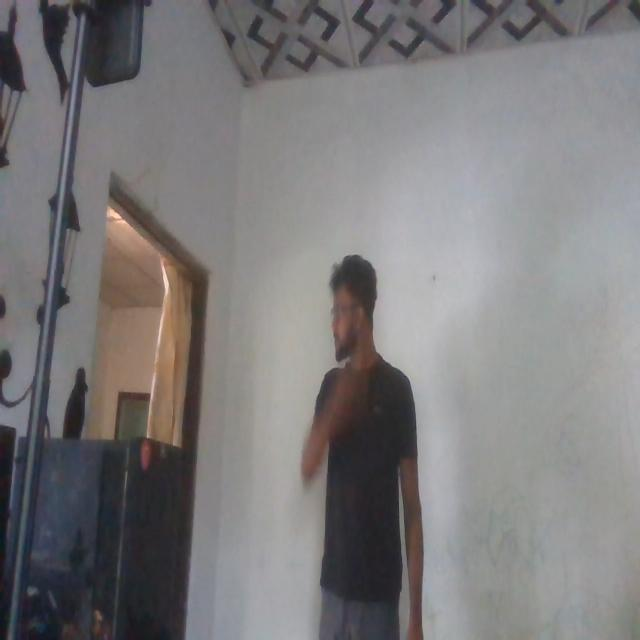Person: (307, 253, 425, 640)
